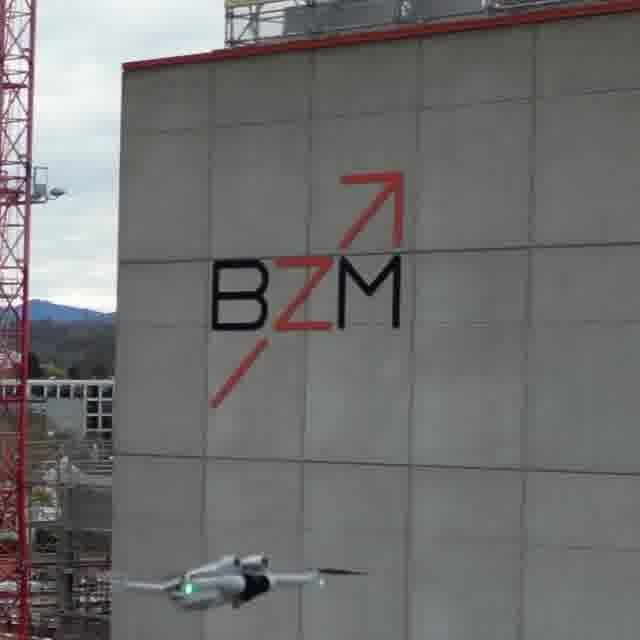Drohne: (109, 553, 368, 611)
